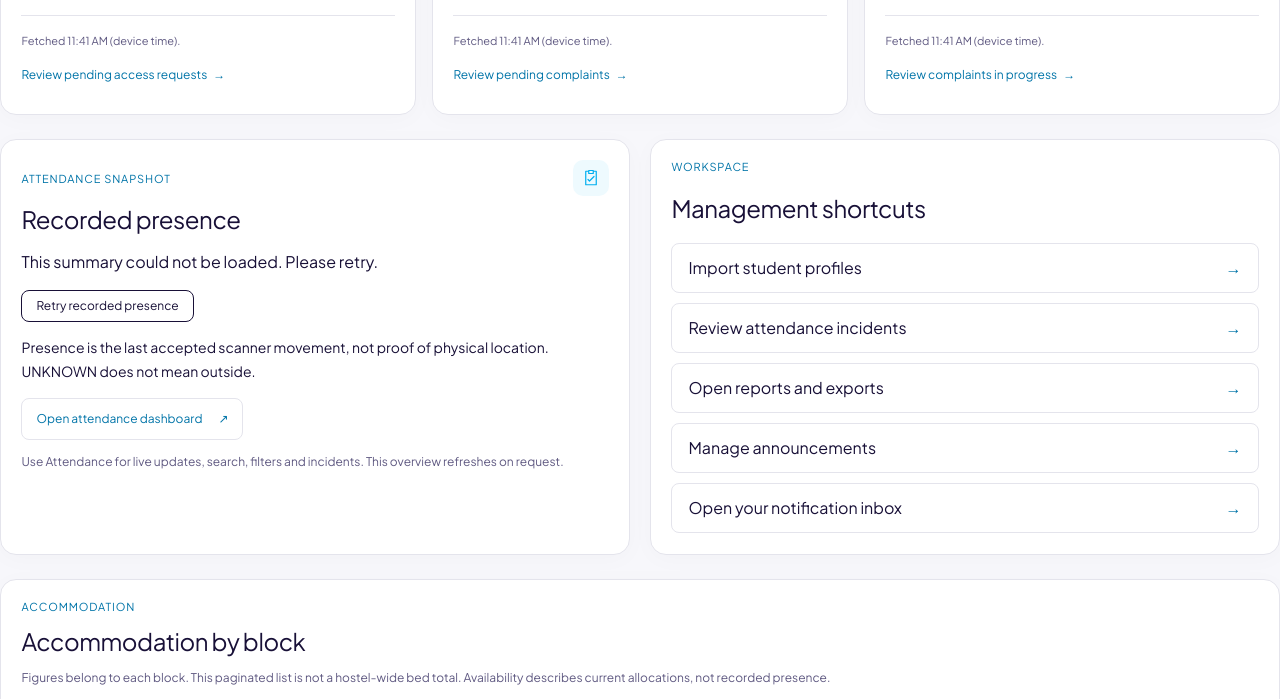
Scenario: allows retrying the shared attendance summary from its snapshot panel
This screenshot has width=1280, height=699.
(page scrolled)
Click the button "Retry recorded presence": coordinates (108, 306) [22,290,194,322]
(page scrolled)
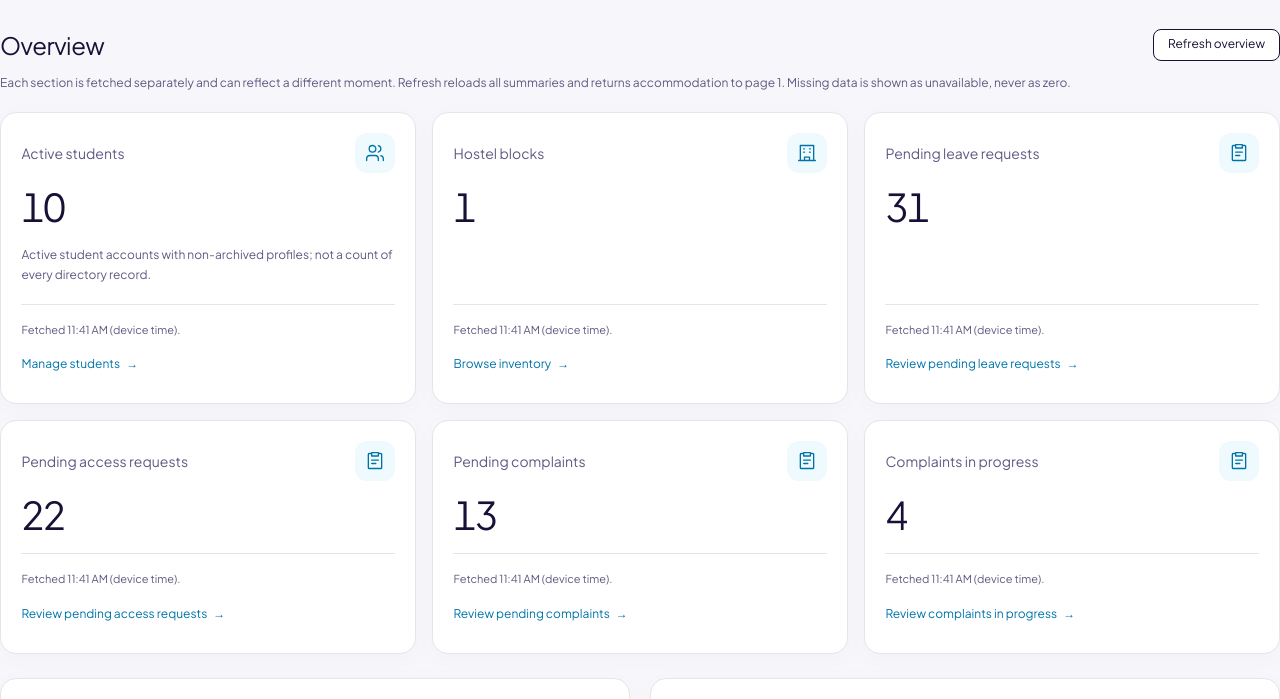
Result: the text "10" is shown at [22,185,64,229]
